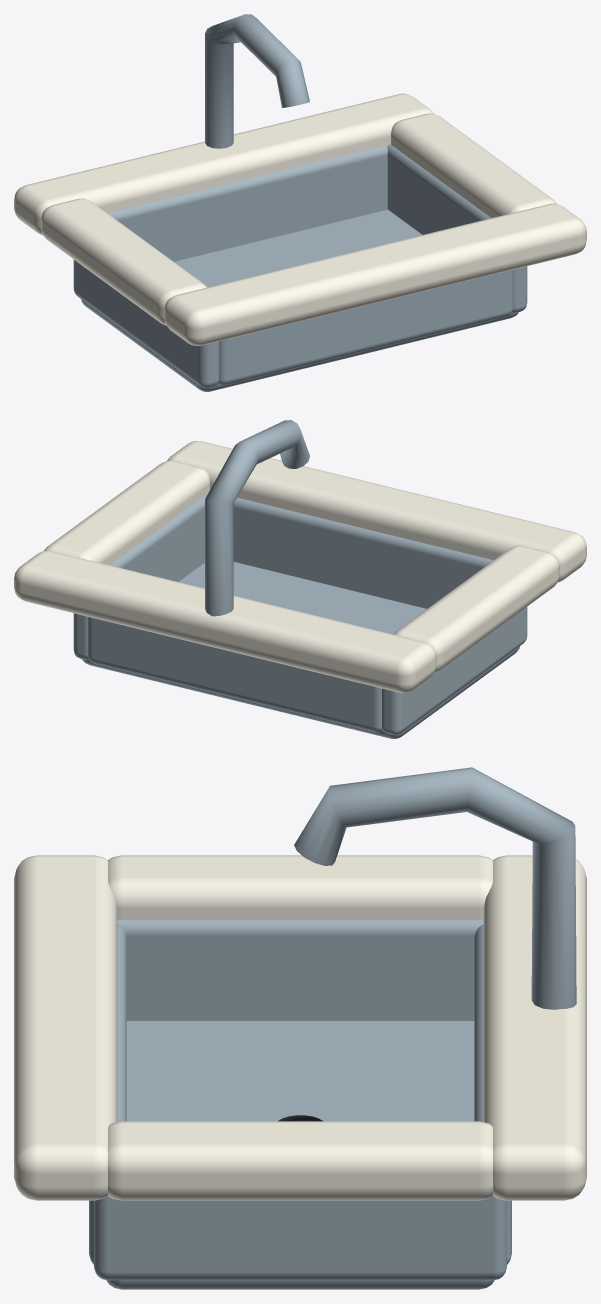
The model's file is Kitchen_Sink.glb.
3 views of the same model, one above another, from view 1: azimuth 30°, elevation 25°; view 2: azimuth 150°, elevation 25°; view 3: azimuth 270°, elevation 25° (orthographic). The views are drawn at different scales.
Visible parts, largest first — view 1: Kitchen_Sink; view 2: Kitchen_Sink; view 3: Kitchen_Sink.
Boxes of the visible parts, x1,y1,x2,y2 form: Kitchen_Sink: [14, 14, 586, 391]; Kitchen_Sink: [14, 420, 586, 738]; Kitchen_Sink: [14, 767, 586, 1289].
Bounding box in the file's own units: 0.77 × 0.4738 × 0.61.
